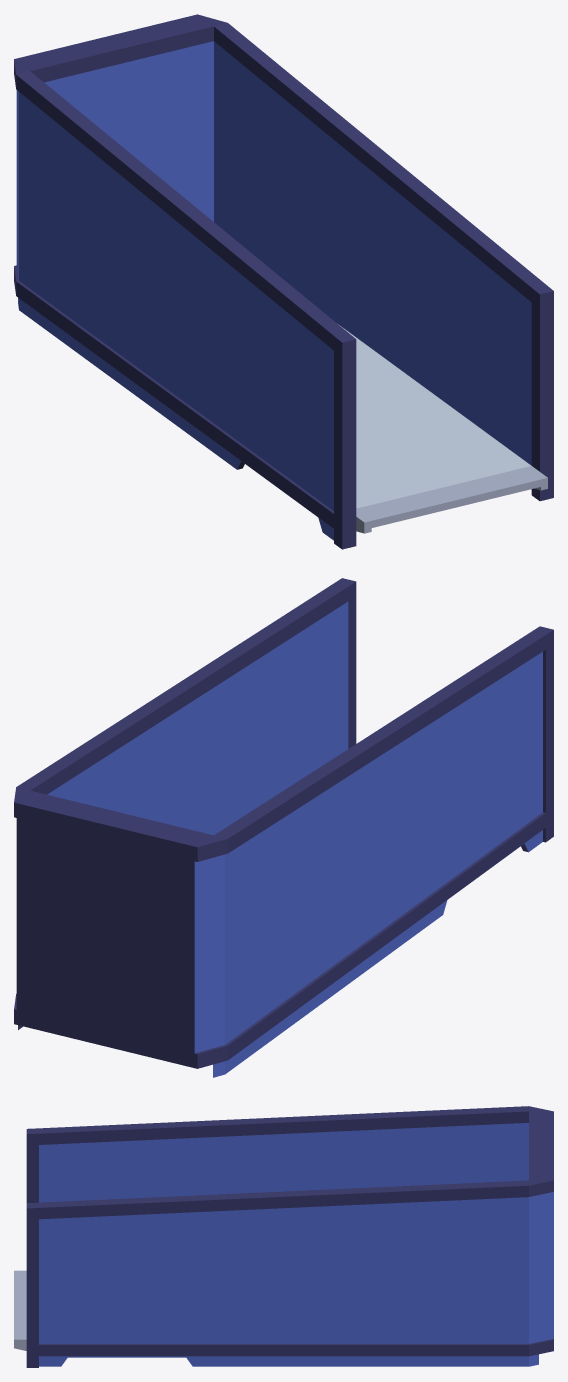
The model's file is Truck_Trailer.fbx.
3 views of the same model, one above another, from view 1: azimuth 30°, elevation 25°; view 2: azimuth 150°, elevation 25°; view 3: azimuth 270°, elevation 25° (orthographic). The views are drawn at different scales.
Visible parts, largest first — view 1: Trailer; view 2: Trailer; view 3: Trailer.
Part boxes in pixels (x1,y1,x2,y2): Trailer: [14, 14, 553, 549]; Trailer: [14, 578, 553, 1077]; Trailer: [14, 1106, 553, 1367].
Size of the model in its own units: 7.5 by 8 by 21.5.
